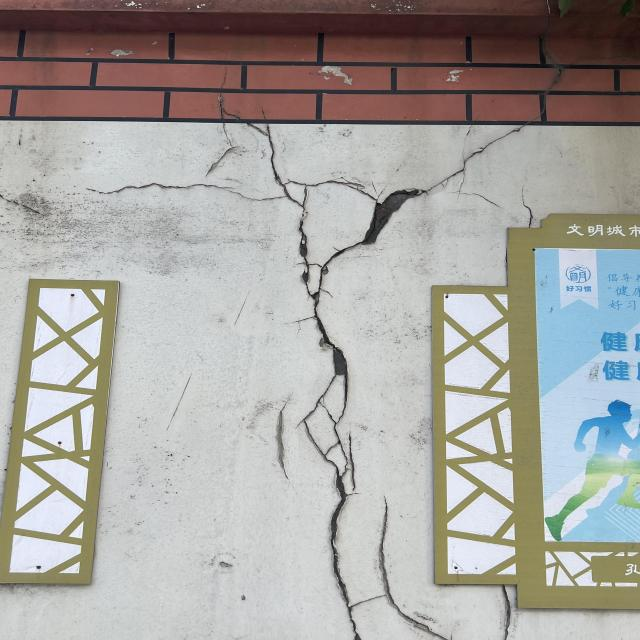crack: (64, 66, 566, 640)
